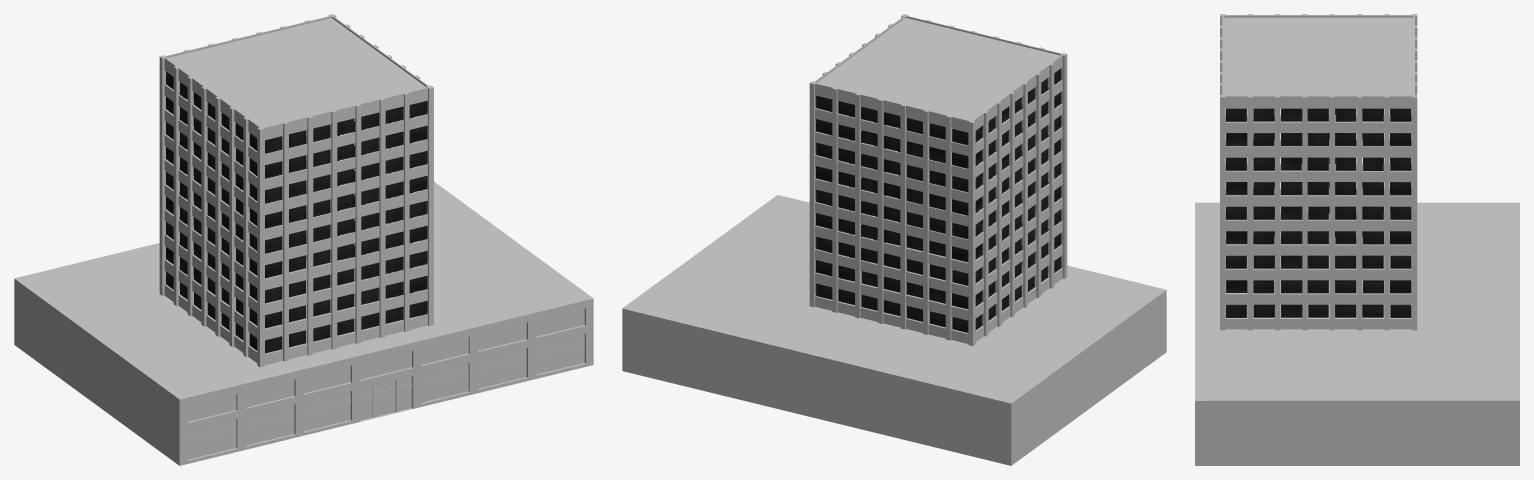
3 views of the same model, side by side, from view 1: azimuth 30°, elevation 25°; view 2: azimuth 150°, elevation 25°; view 3: azimuth 270°, elevation 25° (orthographic). The views are drawn at different scales.
Visible parts, largest first — view 1: BB-016; view 2: BB-016; view 3: BB-016.
Part boxes in pixels (box(x1,y1,x2,y2)): BB-016: box(14, 14, 593, 465); BB-016: box(622, 14, 1166, 465); BB-016: box(1195, 14, 1519, 465).
Size of what is drawn, in the model's own units: 52 by 36.48 by 36.
